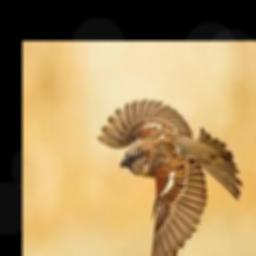Sparrow: (97, 99, 243, 256)
